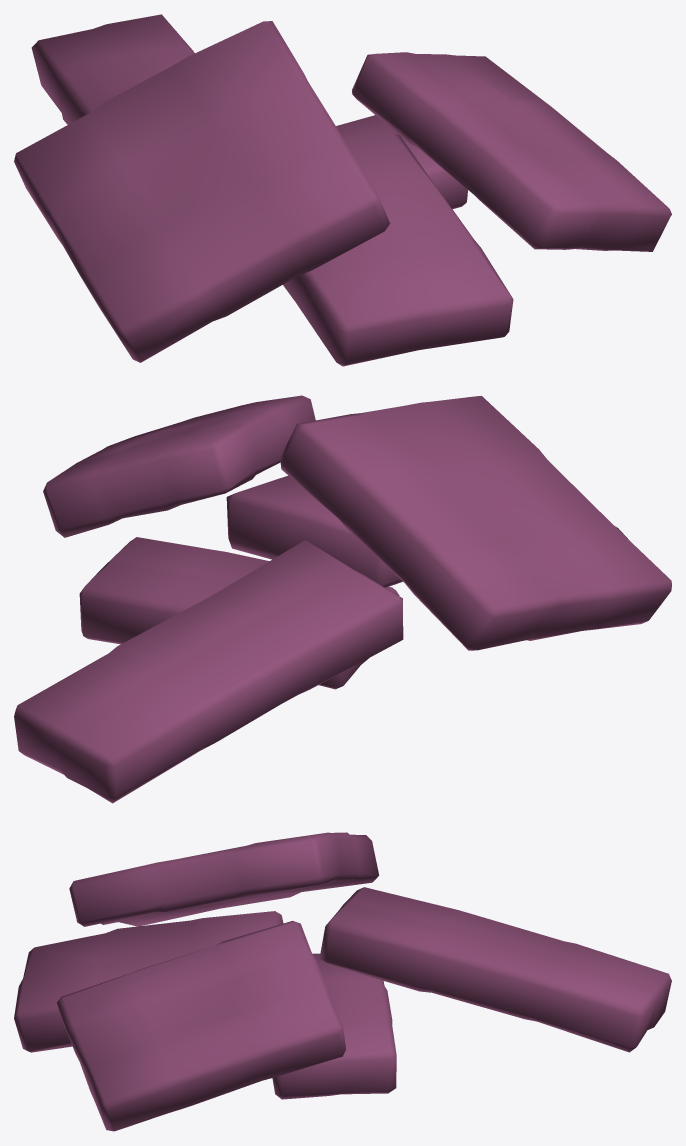
File: SM_stonePile01.fbx
3 views of the same model, one above another, from view 1: azimuth 30°, elevation 25°; view 2: azimuth 150°, elevation 25°; view 3: azimuth 270°, elevation 25° (orthographic). The views are drawn at different scales.
Visible parts, largest first — view 1: Plane.015, Plane.018, Plane.016, Plane.017, Plane.019; view 2: Plane.015, Plane.017, Plane.018, Plane.019, Plane.016; view 3: Plane.018, Plane.017, Plane.015, Plane.016, Plane.019.
Part boxes in pixels (left/top/right/bottom): Plane.015: left=14, top=21, right=390, bottom=362; Plane.018: left=352, top=52, right=671, bottom=251; Plane.016: left=283, top=132, right=513, bottom=366; Plane.017: left=31, top=14, right=194, bottom=124; Plane.019: left=336, top=115, right=467, bottom=209; Plane.015: left=280, top=395, right=671, bottom=650; Plane.017: left=14, top=540, right=403, bottom=803; Plane.018: left=43, top=395, right=315, bottom=537; Plane.019: left=79, top=537, right=399, bottom=689; Plane.016: left=226, top=475, right=402, bottom=587; Plane.018: left=56, top=921, right=345, bottom=1131; Plane.017: left=319, top=887, right=671, bottom=1052; Plane.015: left=69, top=832, right=379, bottom=926; Plane.016: left=14, top=911, right=283, bottom=1052; Plane.019: left=272, top=953, right=396, bottom=1099.
Size of the model in its own units: 304 by 117 by 374.
